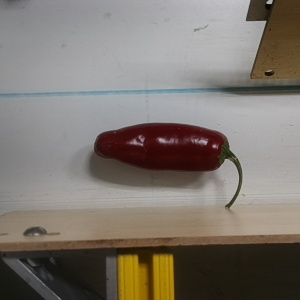Cut Point: (206, 128, 236, 173)
